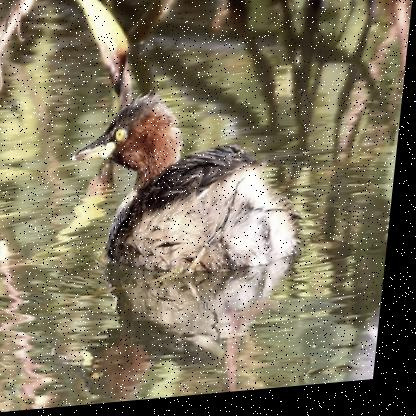Burung: (63, 85, 317, 281)
